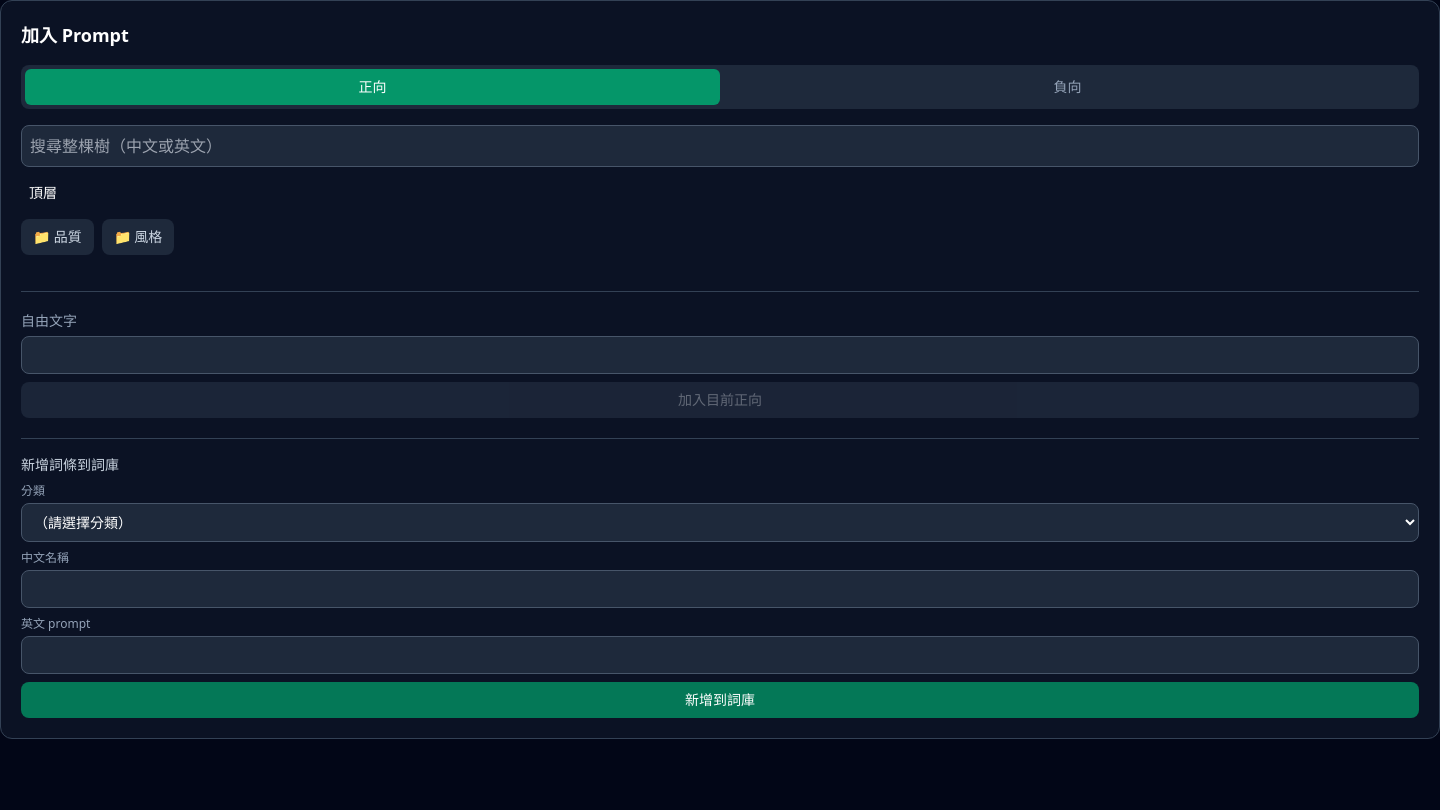
Test: PromptEntryBrowser read-only source catalog › searches across the whole tree and labels each hit with its category path
Type "masterpiece" into the field named "搜尋提示詞" at (720, 146), box x1=21 y1=125 x2=1419 y2=167
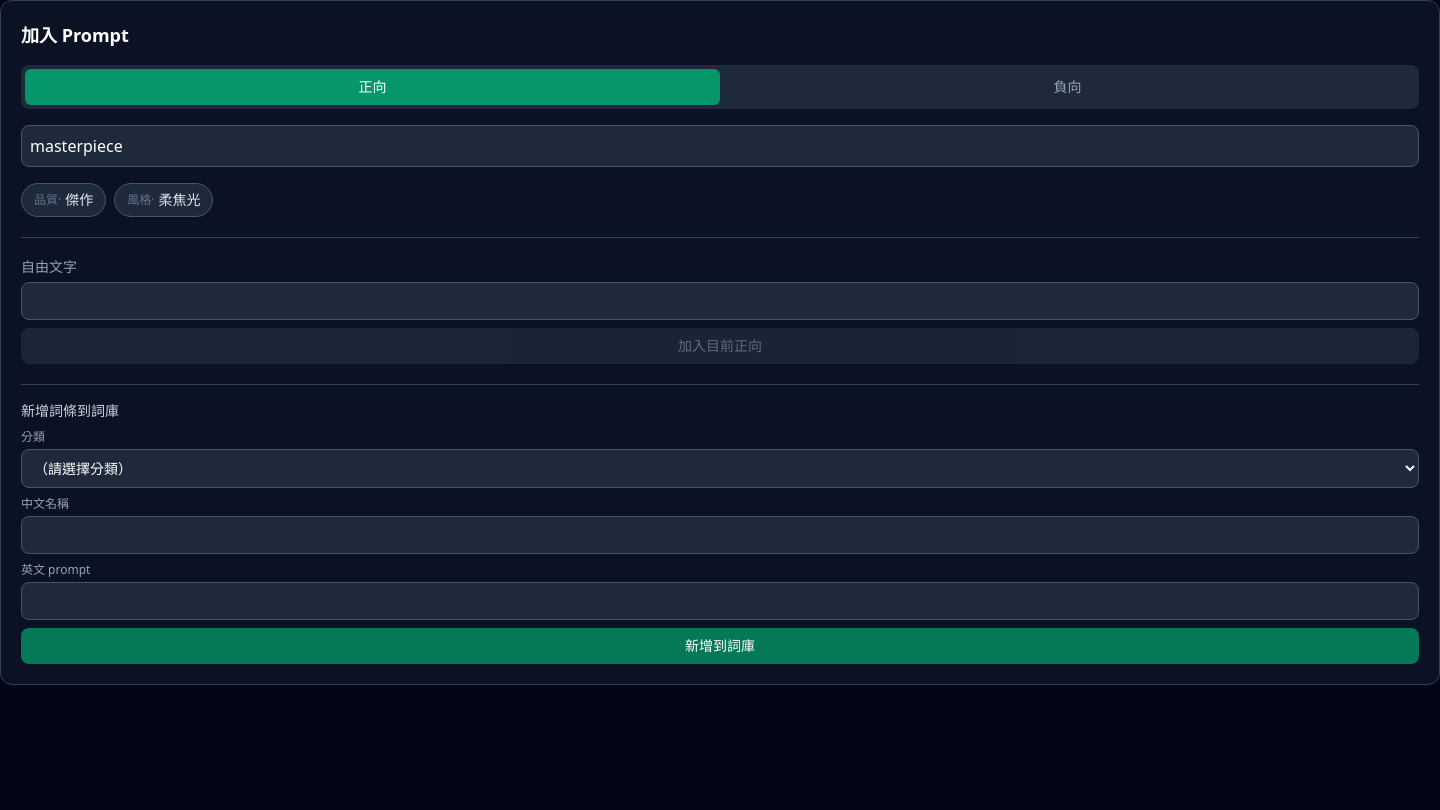
Now the button with aria-label "加入 傑作" shows "品質", box x1=21 y1=183 x2=106 y2=217
Now the button with aria-label "加入 柔焦光" shows "風格", box x1=114 y1=183 x2=213 y2=217
